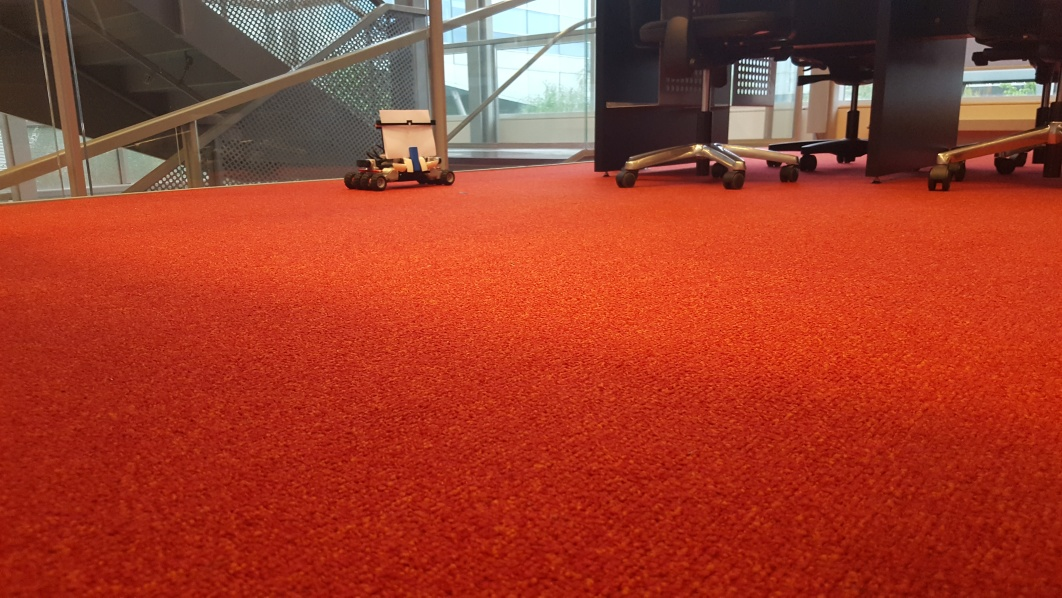car: (344, 107, 455, 194)
